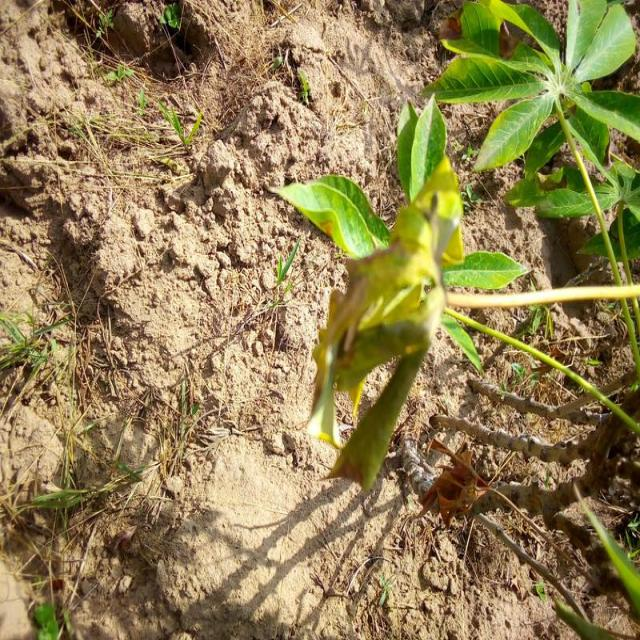cassava leaf: (266, 172, 392, 260)
